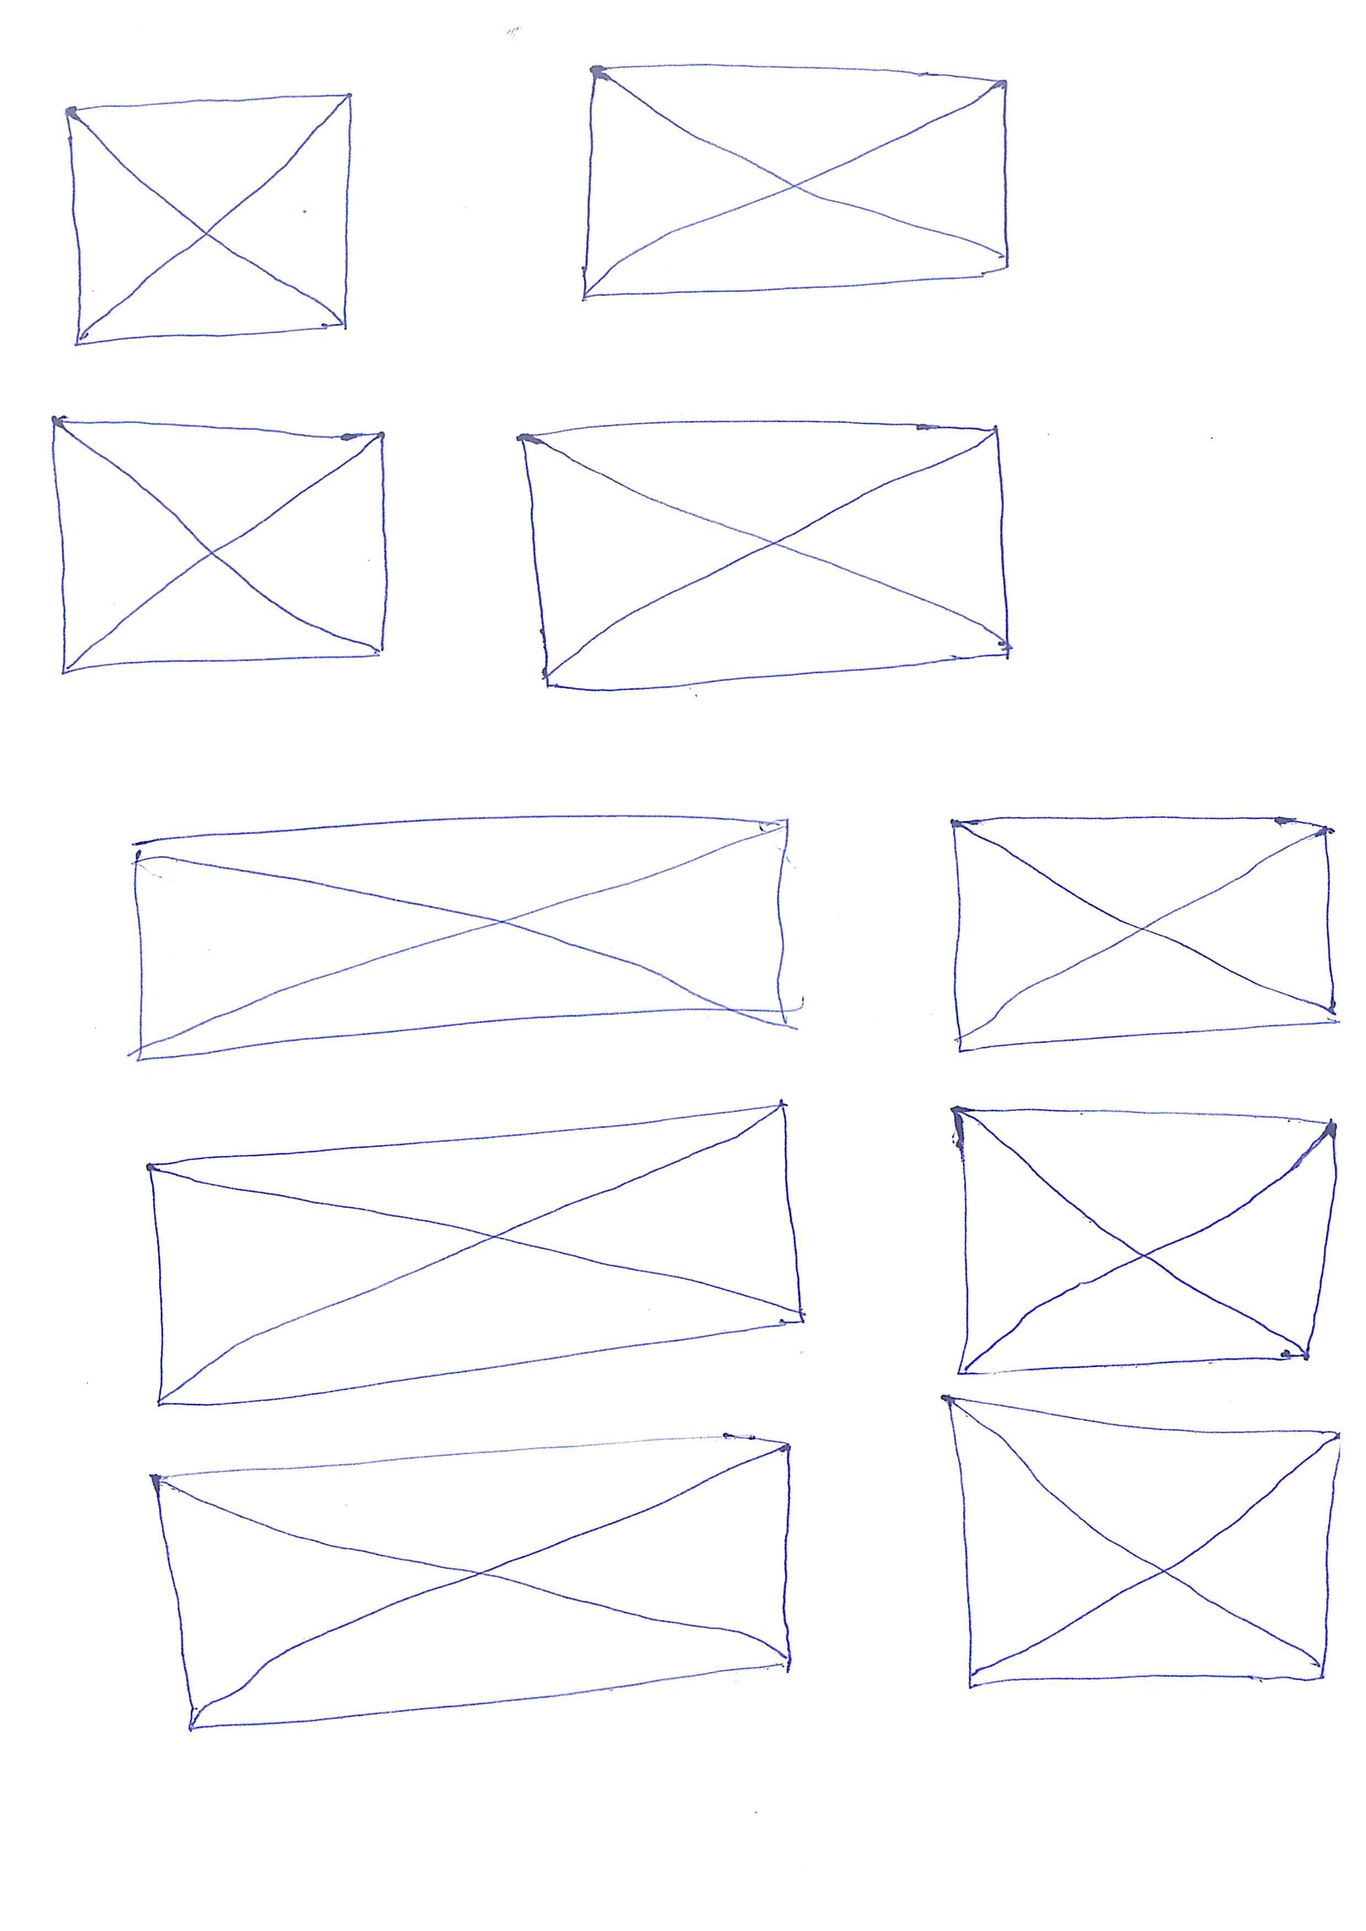Image: (146, 1102, 806, 1406), (149, 1433, 795, 1736), (132, 812, 792, 1063), (517, 417, 1013, 695), (940, 1391, 1345, 1691), (952, 1103, 1339, 1379), (577, 61, 1013, 303), (951, 813, 1336, 1056), (47, 417, 392, 679), (65, 90, 355, 350)
